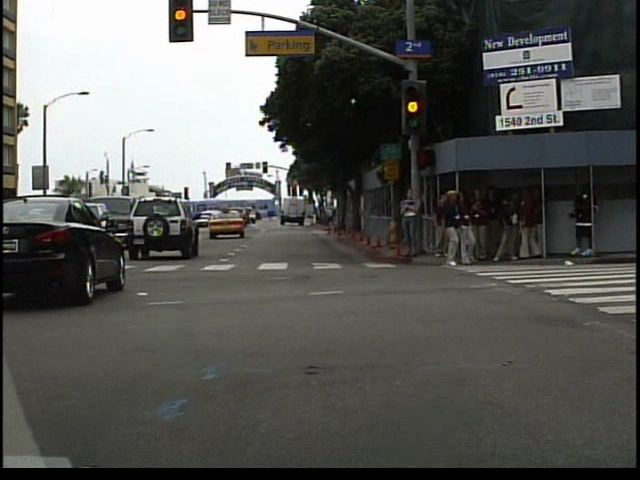person: (402, 183, 426, 260)
